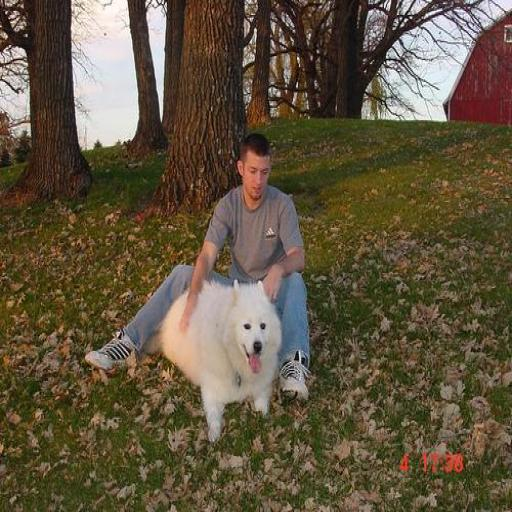dog_face: (230, 277, 271, 372)
